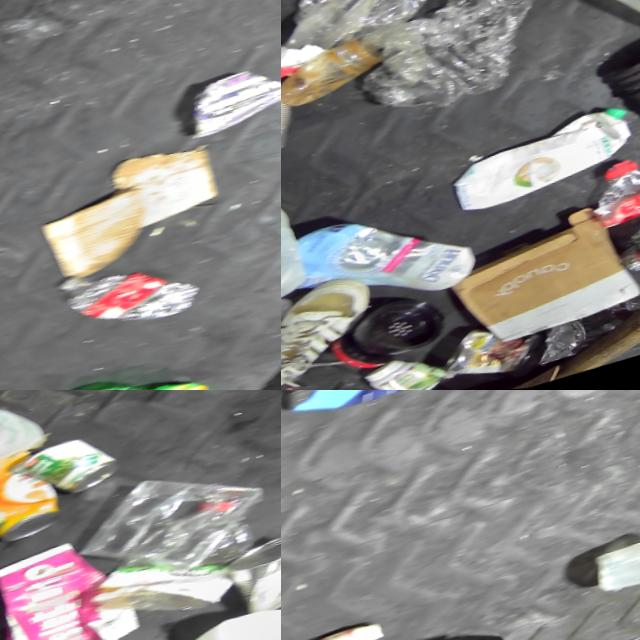can: (281, 390, 516, 431), (439, 314, 553, 390), (534, 296, 640, 373), (18, 430, 122, 506), (235, 528, 281, 621), (281, 89, 303, 166)
non_white_jug: (281, 177, 320, 321)
plastic_bottle: (58, 242, 209, 347), (587, 150, 640, 239)
